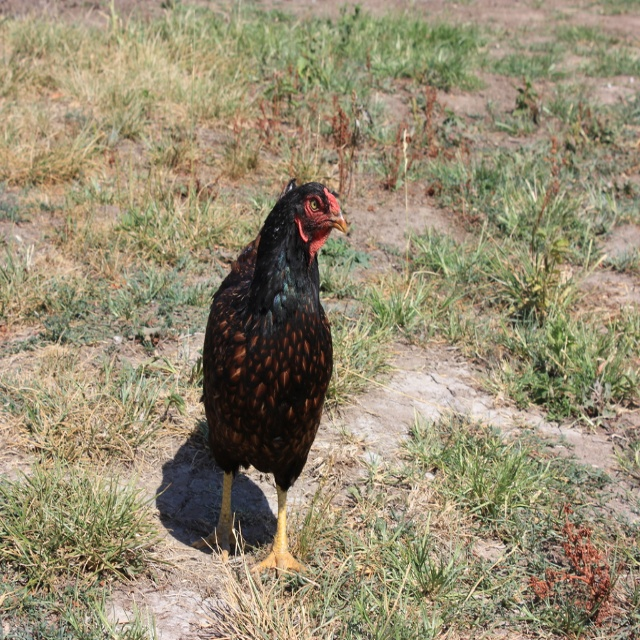Chicken: (197, 183, 346, 580)
